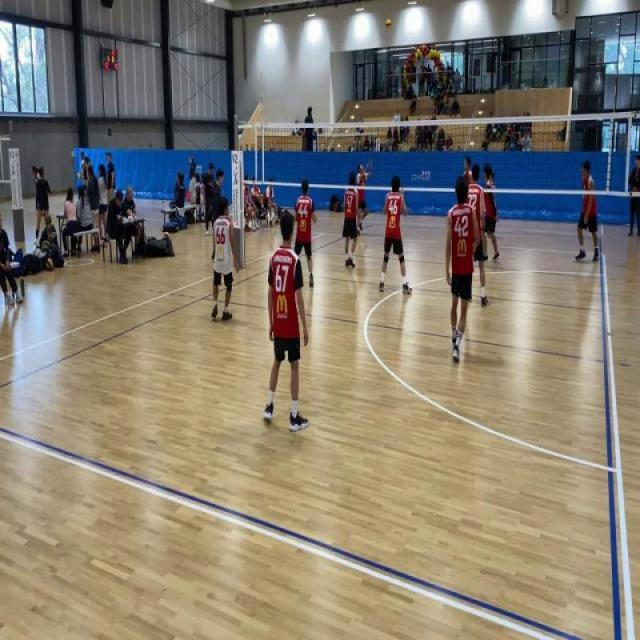volleyball: (45, 256, 54, 272), (385, 18, 392, 30), (146, 232, 154, 240), (162, 231, 170, 238), (78, 172, 82, 178)
